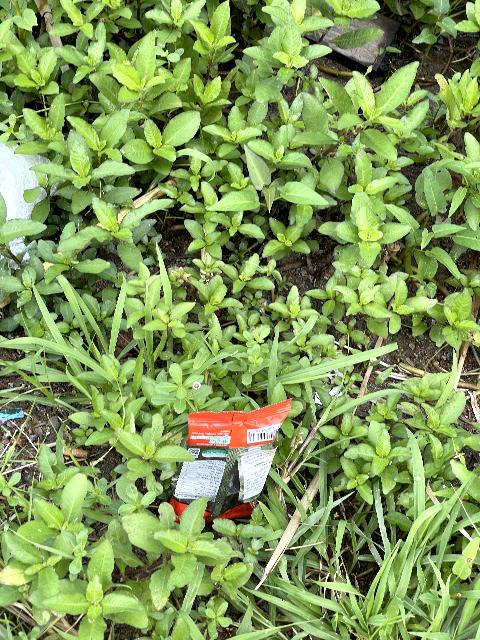packet: (167, 402, 314, 552)
